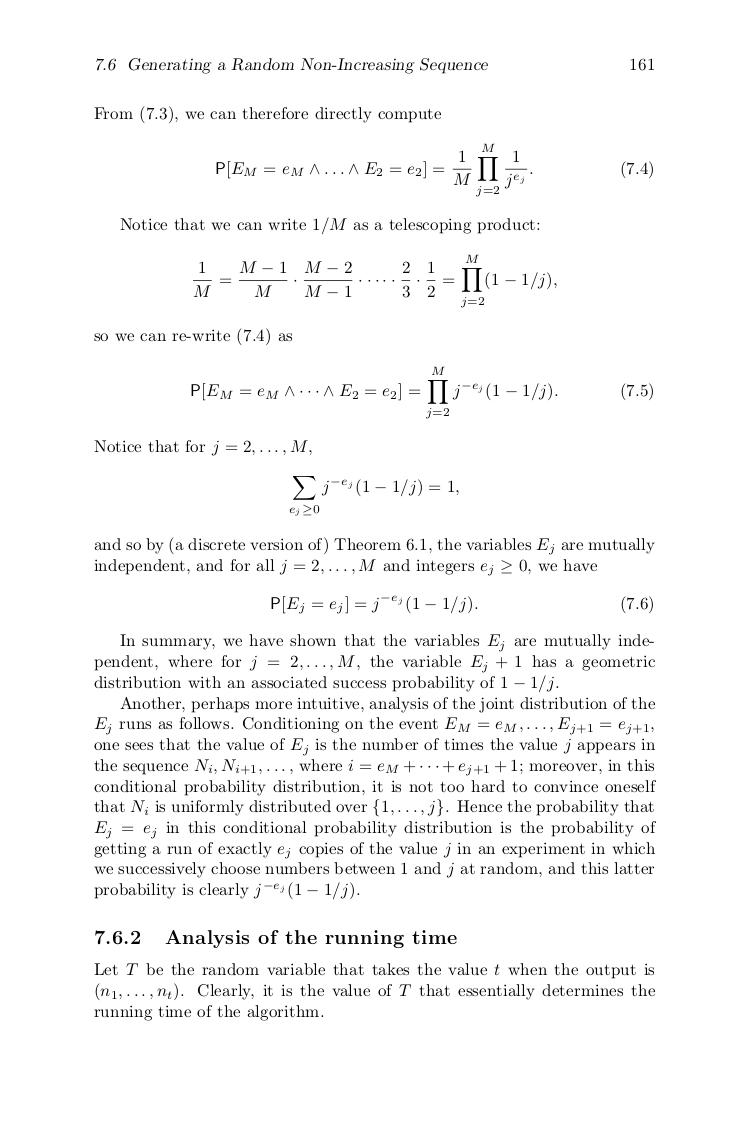formula: (216, 142, 652, 197), (191, 366, 652, 418), (193, 253, 556, 308), (271, 594, 652, 614), (289, 476, 458, 515)
